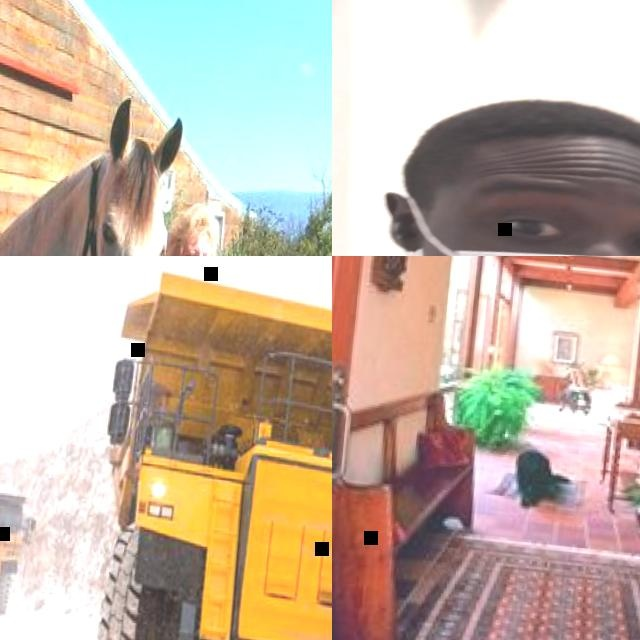NO-Hardhat: (417, 82, 640, 207), (173, 201, 222, 248)
Person: (332, 49, 640, 256)
machinery: (74, 256, 332, 640), (0, 470, 41, 624)
